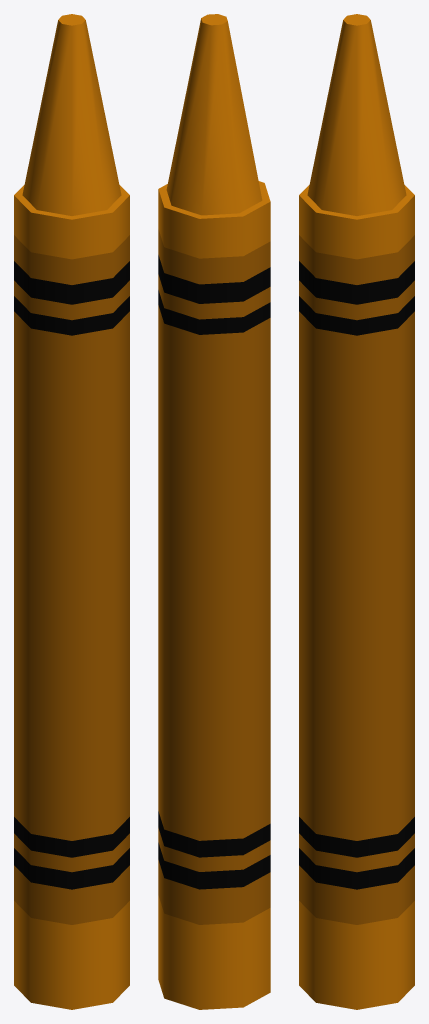
File: CrayonOrange.fbx
The picture shows the model from 3 angles, left to right: view 1: azimuth 90°, elevation 25°; view 2: azimuth 210°, elevation 25°; view 3: azimuth 270°, elevation 25°; orthographic projection.
Visible parts, largest first — view 1: pasted__pCylinder1; view 2: pasted__pCylinder1; view 3: pasted__pCylinder1.
Boxes of the visible parts, bbox=[...] form: pasted__pCylinder1: bbox=[14, 14, 129, 1009]; pasted__pCylinder1: bbox=[158, 14, 270, 1009]; pasted__pCylinder1: bbox=[299, 14, 414, 1009].
Size of the model in its own units: 1.37 by 12.55 by 1.37.
